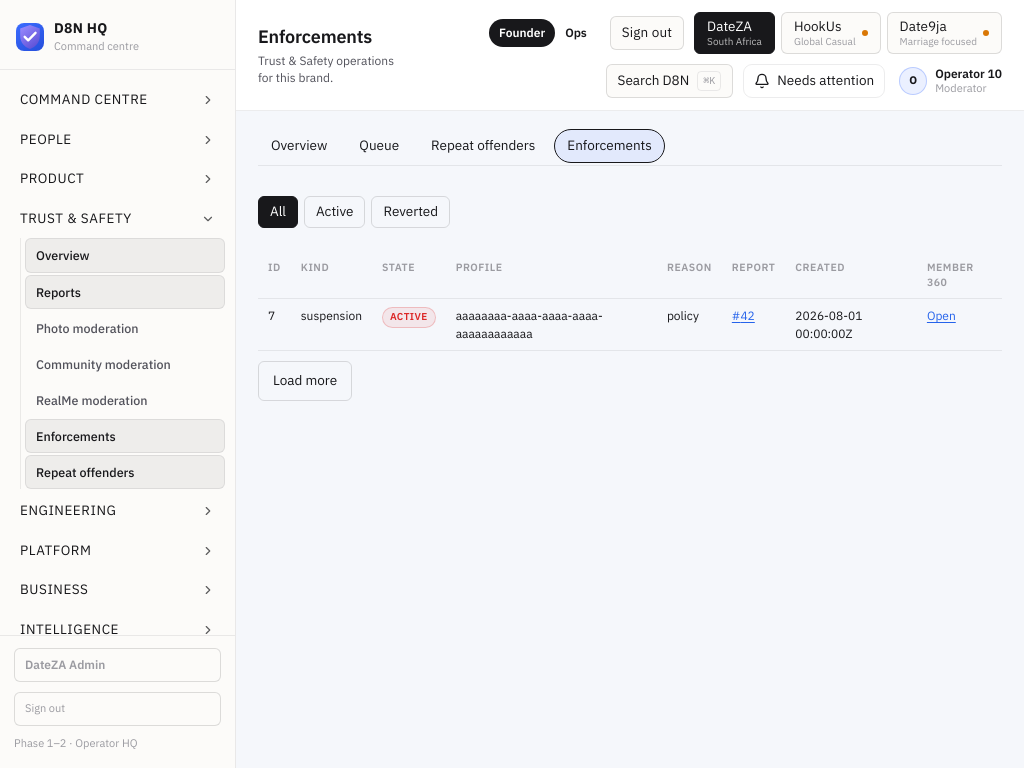
Test: D8N HQ Phase 2 Trust & Safety › paginates enforcements and surfaces invalid cursor without silent reset
The width and height of the screenshot is (1024, 768).
Expected: the text "policy" is shown, x1=667 y1=308 x2=699 y2=323
Click the button "Load more" at (305, 381), box x1=258 y1=361 x2=352 y2=401
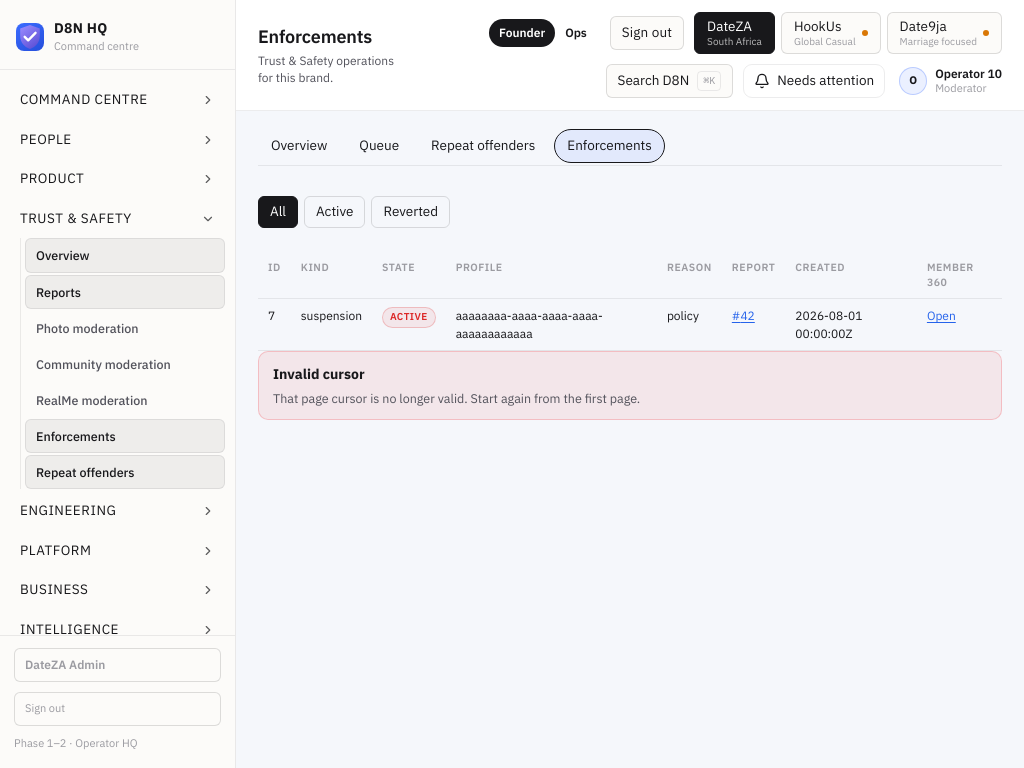
Expected: the text "policy" is shown, x1=667 y1=308 x2=699 y2=323
Result: the text "page cursor is no longer valid" is shown at x1=273 y1=390 x2=640 y2=406
